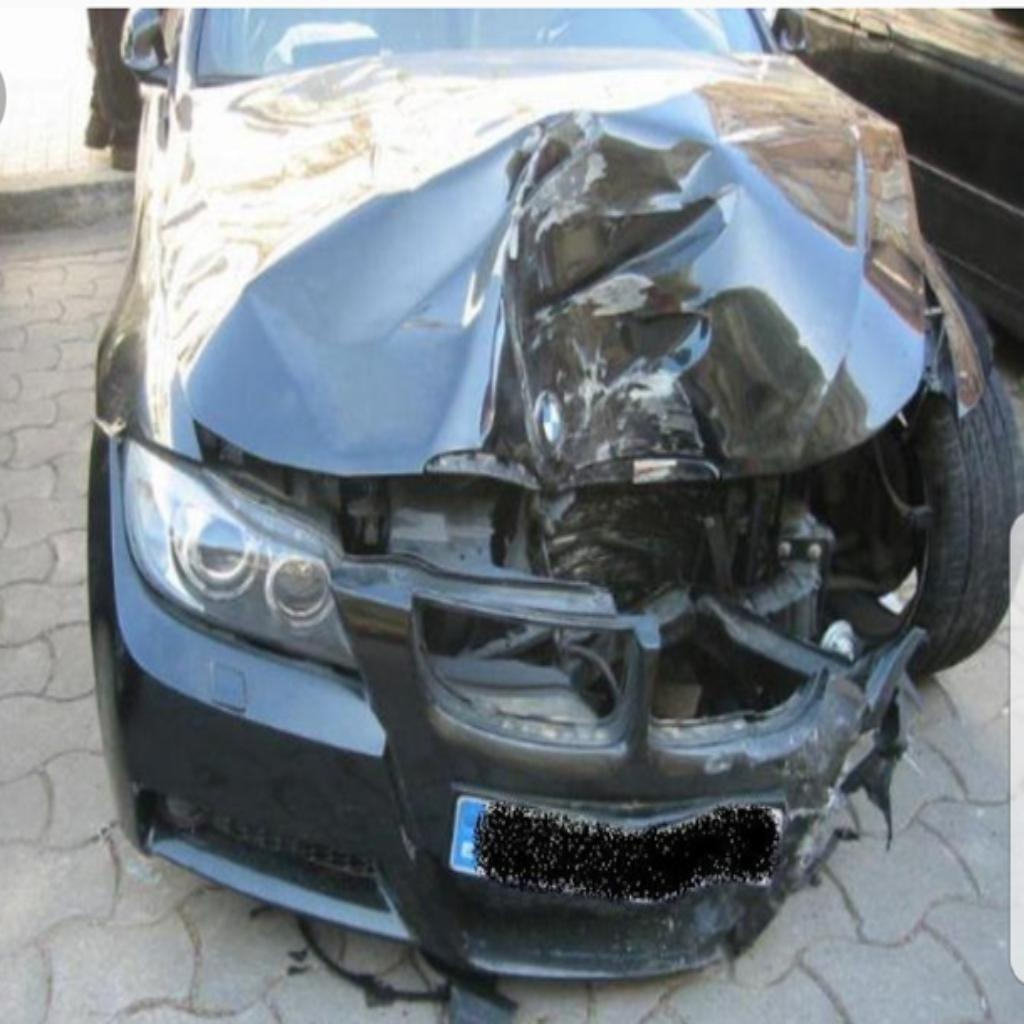Dent: (165, 111, 844, 478)
Smashed: (321, 435, 975, 948)
